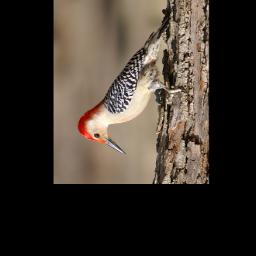Woodpecker: (74, 14, 188, 155)
